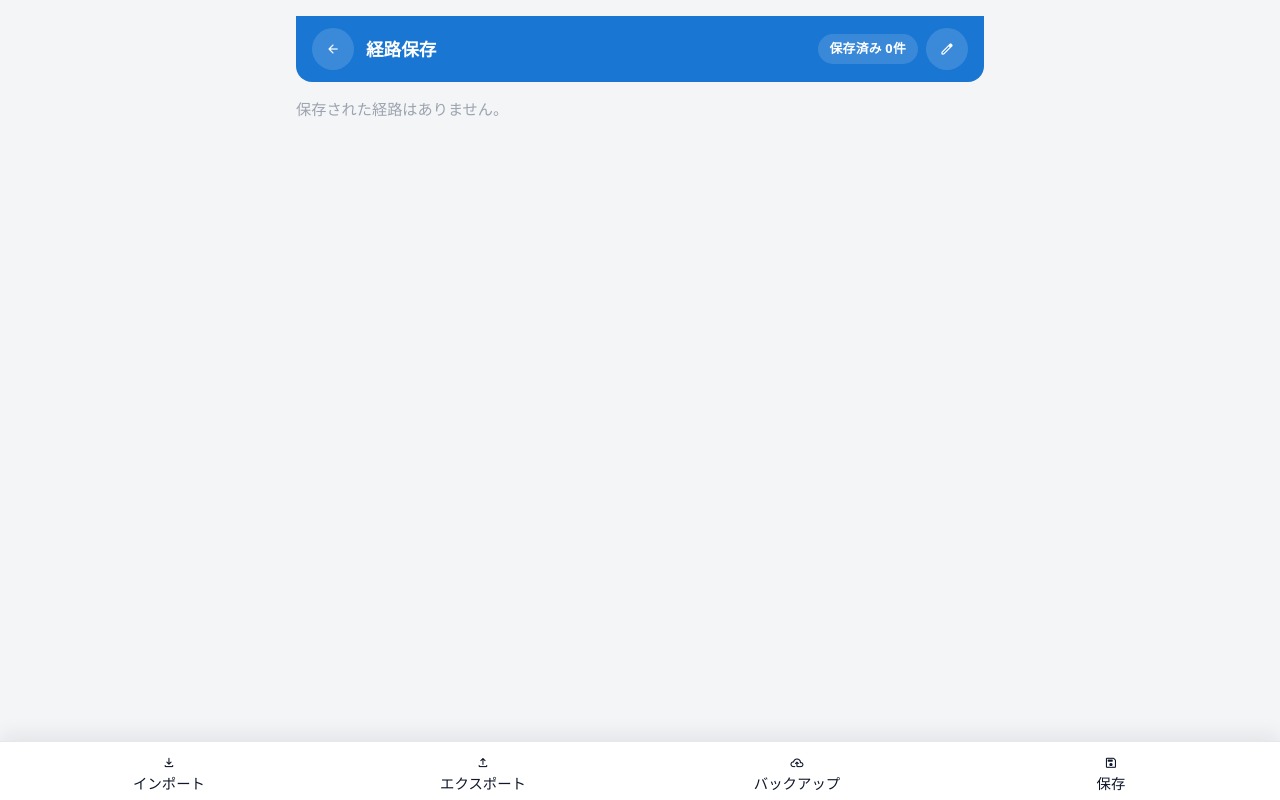
Test: /save/+page.svelte › インポートダイアログで入力してインポートできる
Click the button "インポート" at (169, 775), box [12,750,326,799]
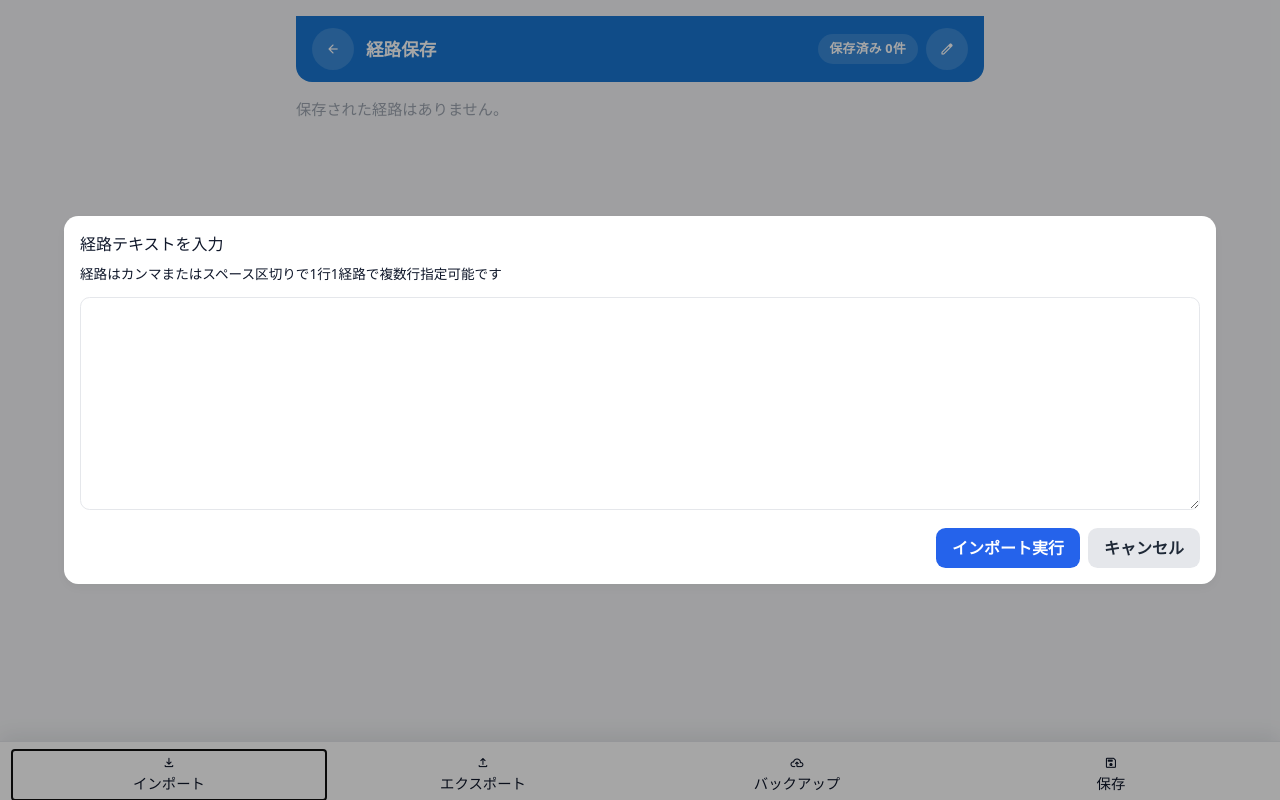
expect the dialog named "経路インポート" is shown: met
Type "横浜,相鉄本線,町田" into the text box named "経路テキスト" at (640, 403), box [80,297,1200,510]
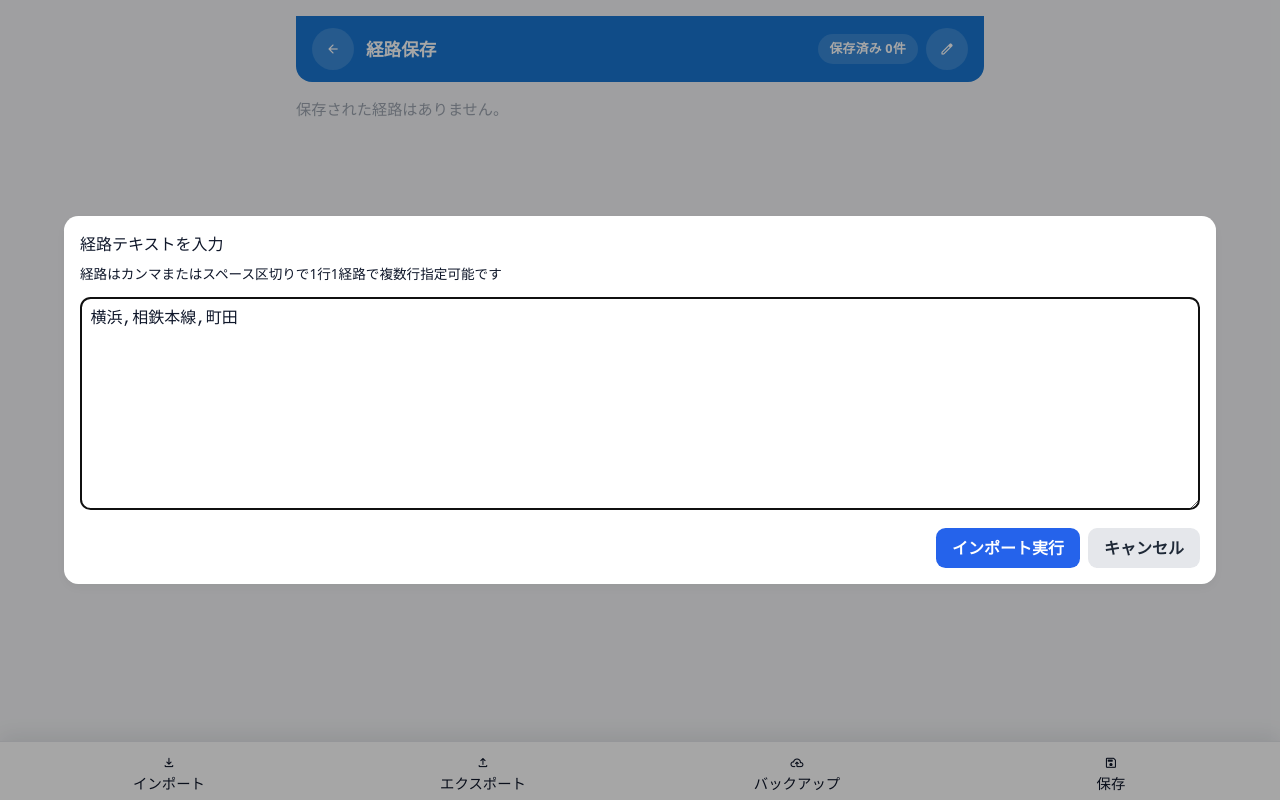
Click the button "インポート実行" at (1008, 548), box [936,528,1080,568]
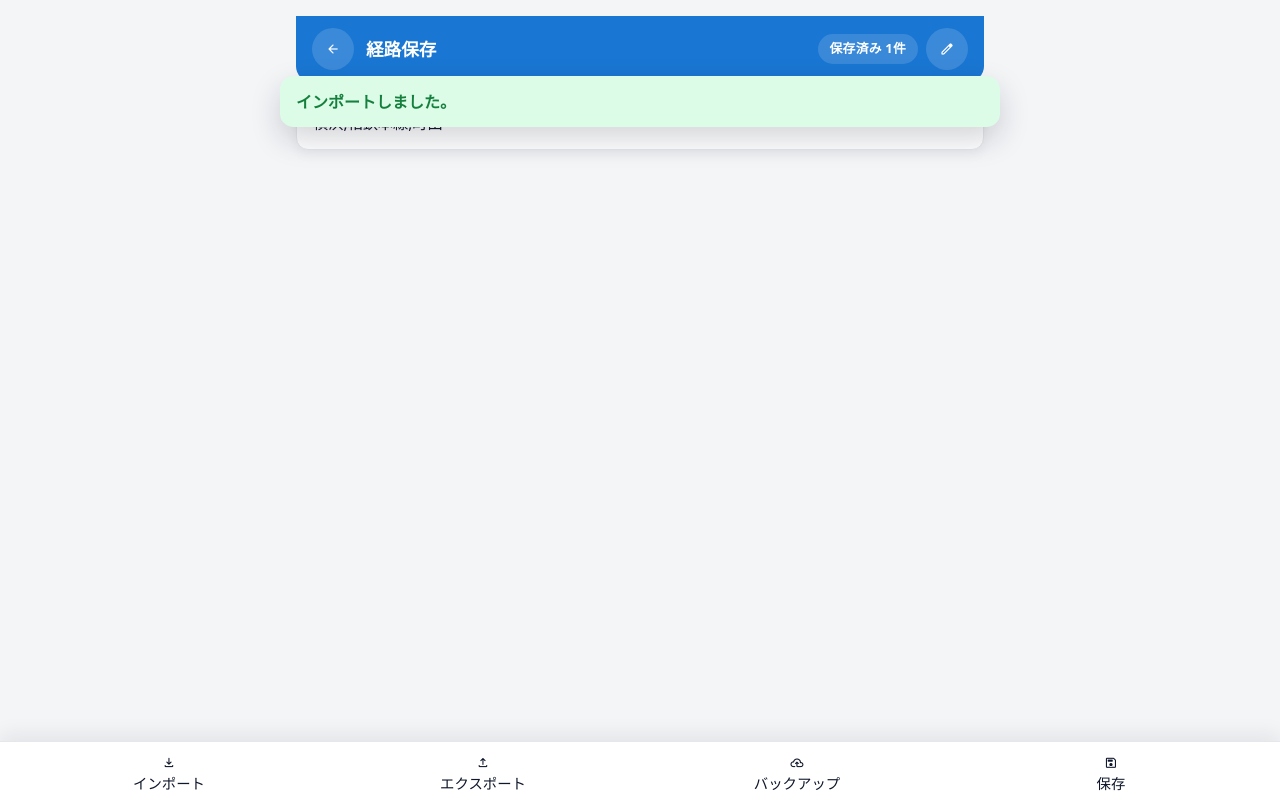
expect the text "インポートしました。" is shown: met, box [296,91,456,113]
